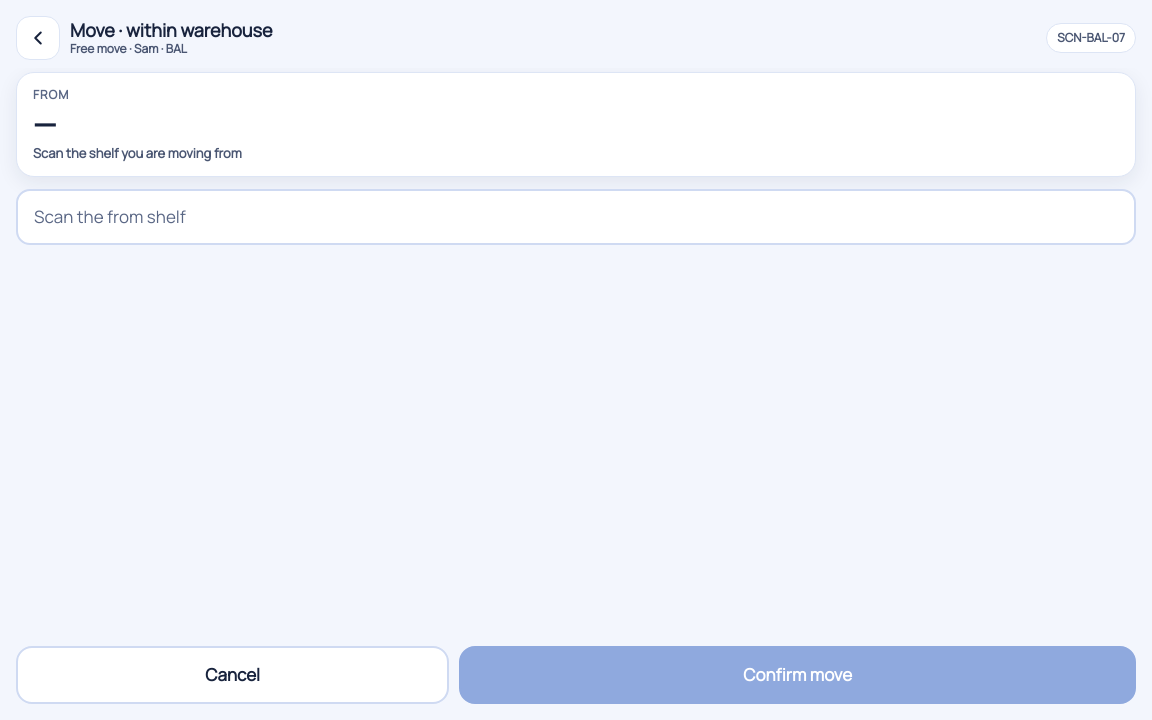
it: Move › moves what is on a shelf to another shelf with a reason
Expected: the text "Free move" is shown, [70,41,126,57]
Expected: the text "Move · within warehouse" is shown, [70,18,272,42]
# from shelf: the one product here is preselected
In the field labelled "Scan": (576, 217) [16,189,1136,245], type "BK-04-01-C"
Then press Enter
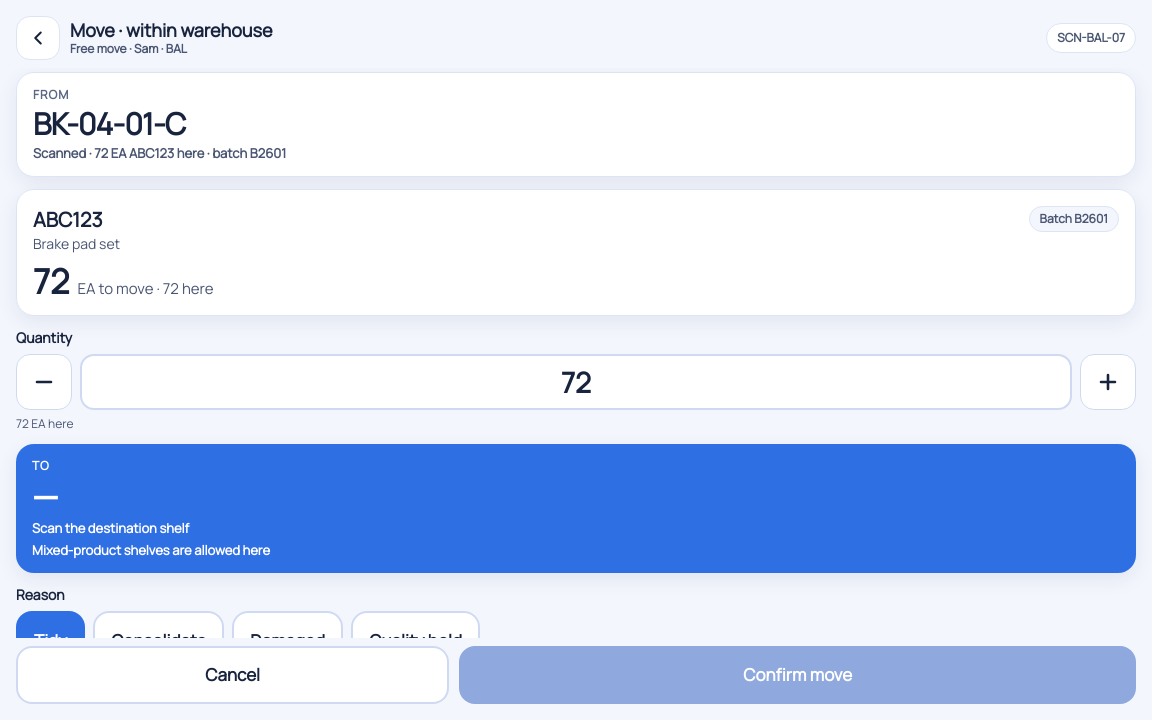
Expected: the text "Scanned · 72 EA ABC123 here · batch B2601" is shown, [33,144,286,162]
Expected: the text "ABC123" is shown, [33,206,102,233]
Expected: the text "Brake pad set" is shown, [33,234,120,254]
Replace the text in the number field with "12": (576, 382) [80,354,1072,410]
(page scrolled)
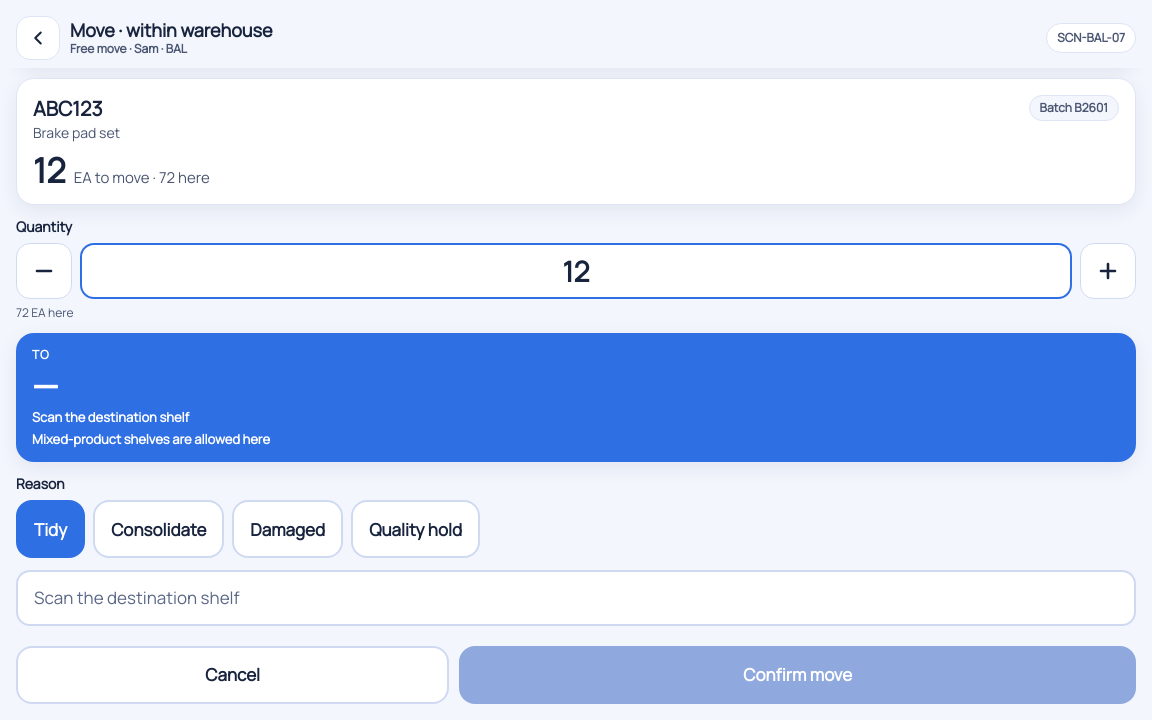
# to shelf and reason
In the field labelled "Scan": (576, 598) [16,570,1136,626], type "PF-01-02-A"
Then press Enter
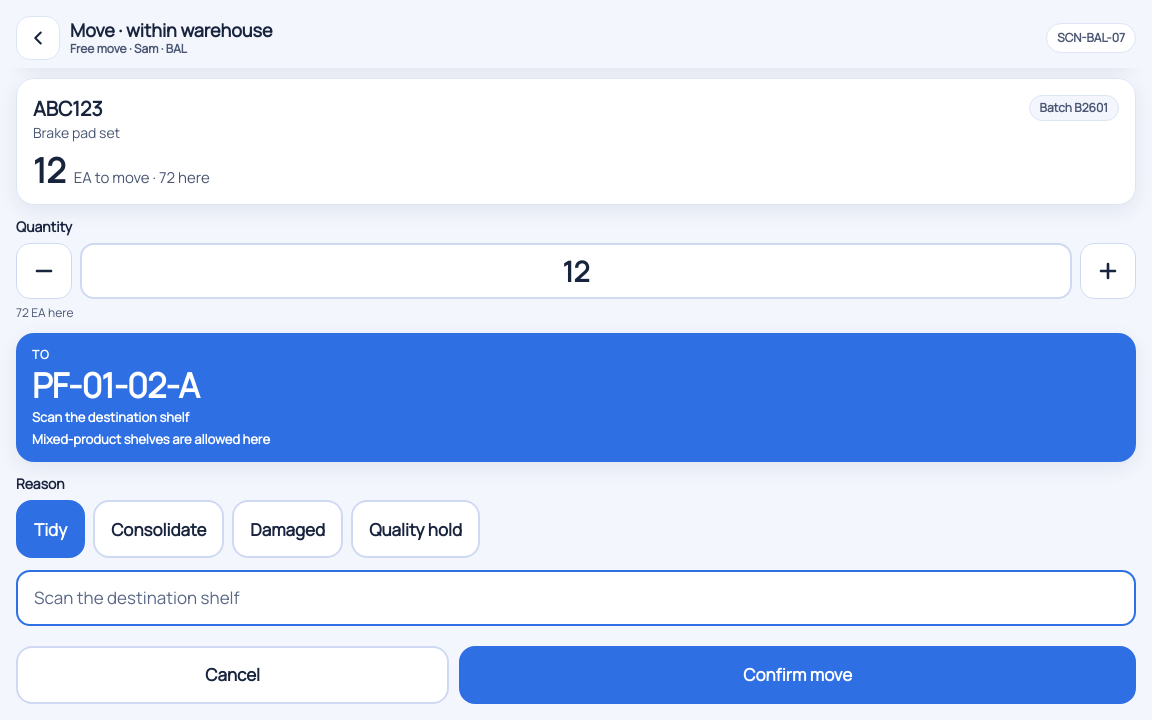
Expected: the text "PF-01-02-A" is shown, [32,362,199,408]
Click the radio button labelled "Consolidate": click(159, 529) [93,500,224,558]
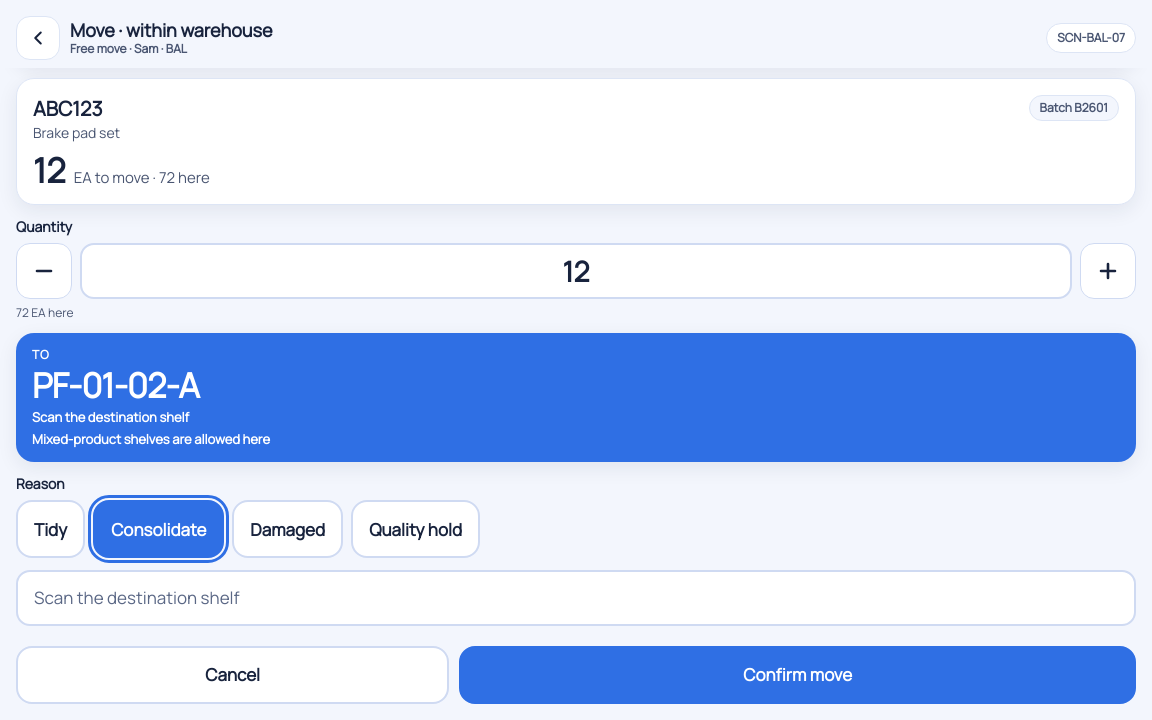
Expected: the button "Confirm move" is enabled
Click the button "Confirm move": click(798, 675) [459,646,1136,704]
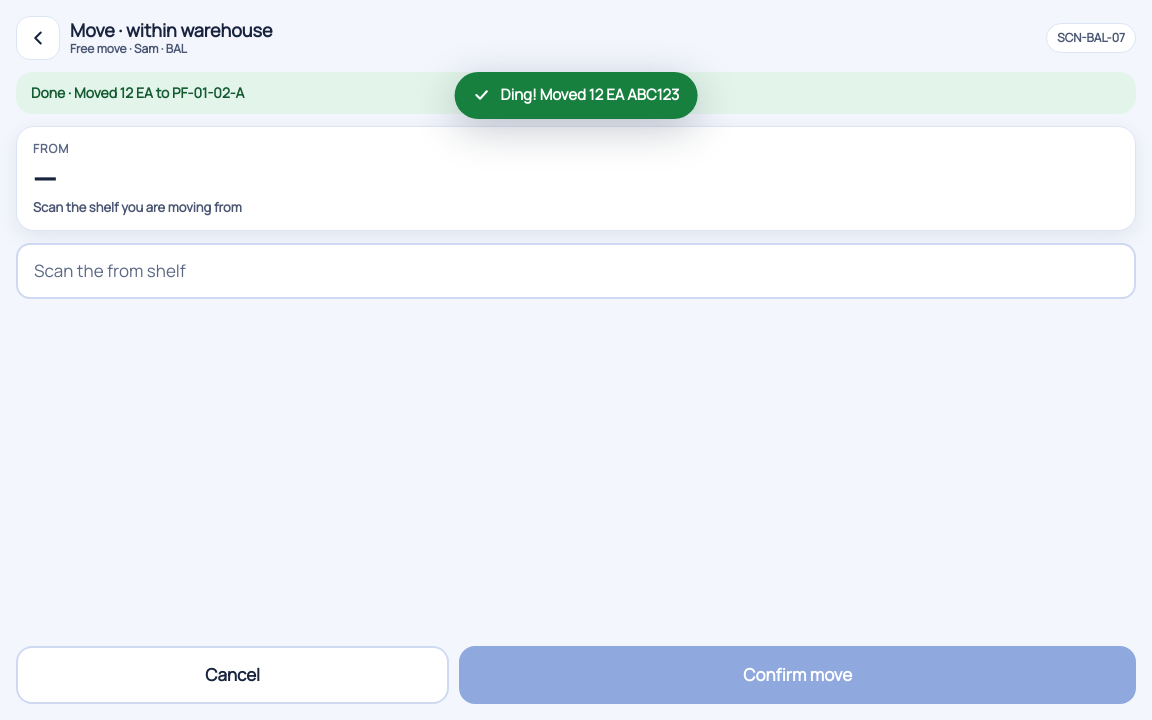
Expected: the text "Done · Moved 12 EA to PF-01-02-A" is shown, [16,72,1136,114]
Expected: the text "Scan the shelf you are moving from" is shown, [33,198,242,216]
